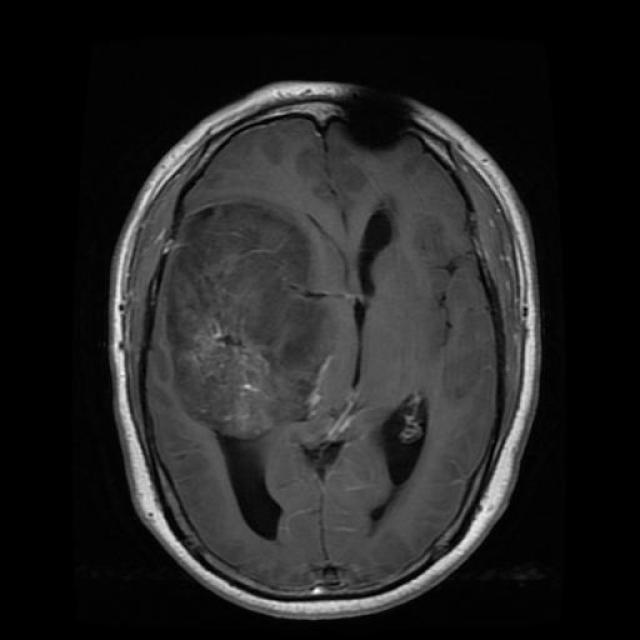glioma: (161, 198, 351, 447)
